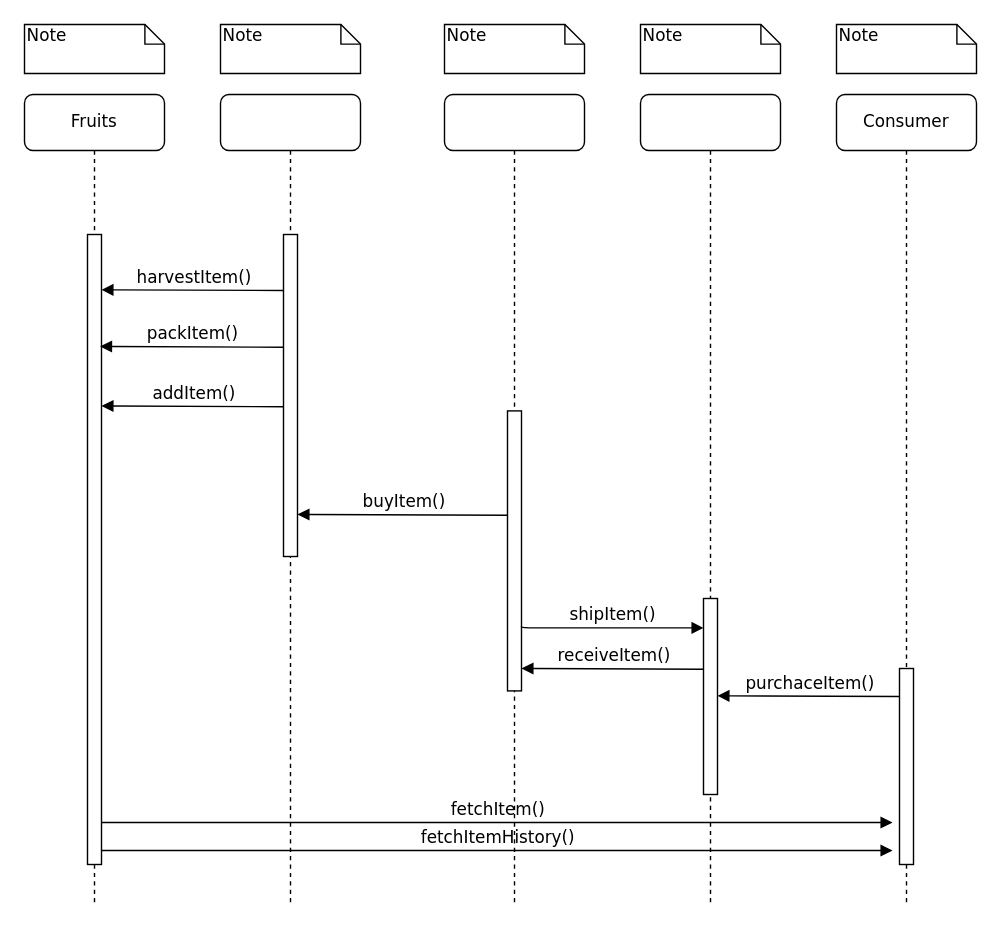
This 1001x931 diagram has some shape labels left out. The box of each missing label's shape, as (x1, y1, x2, y2) in pixels:
Distributor: (443, 93, 584, 906)
Farmer: (219, 93, 360, 906)
Retailer: (639, 93, 780, 906)
